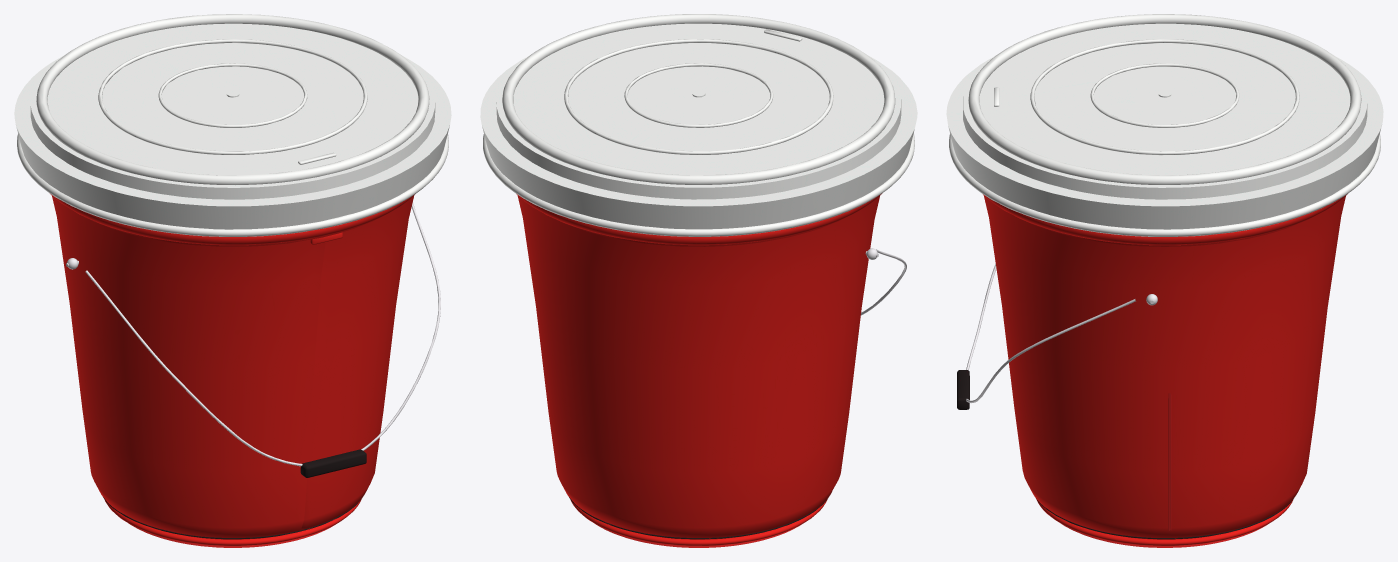
The model's file is paint-container-procedural-red-white.glb.
The picture shows the model from 3 angles, left to right: view 1: azimuth 30°, elevation 25°; view 2: azimuth 150°, elevation 25°; view 3: azimuth 270°, elevation 25°; orthographic projection.
Visible parts, largest first — view 1: premium smooth tapered glossy red paint pail body, bright white snap lid side wall, small polished handle pivot rivet, fine outer bottom shadow line; view 2: premium smooth tapered glossy red paint pail body, bright white snap lid side wall; view 3: premium smooth tapered glossy red paint pail body, bright white snap lid side wall, small polished handle pivot rivet, closed recessed molded red underside disc, fine outer bottom shadow line.
Part boxes in pixels (box(x1,y1,x2,y2)): premium smooth tapered glossy red paint pail body: box(50, 194, 414, 545); bright white snap lid side wall: box(14, 14, 451, 236); small polished handle pivot rivet: box(66, 202, 440, 466); fine outer bottom shadow line: box(103, 449, 366, 539); premium smooth tapered glossy red paint pail body: box(516, 193, 882, 545); bright white snap lid side wall: box(480, 14, 917, 236); premium smooth tapered glossy red paint pail body: box(983, 194, 1347, 545); bright white snap lid side wall: box(946, 14, 1383, 236); small polished handle pivot rivet: box(966, 264, 1157, 403); closed recessed molded red underside disc: box(1063, 393, 1267, 547); fine outer bottom shadow line: box(957, 370, 1293, 539).
Bounding box in the file's own units: 2.7 × 2.75 × 2.7.
Materials: 5 (5 with a texture image).
